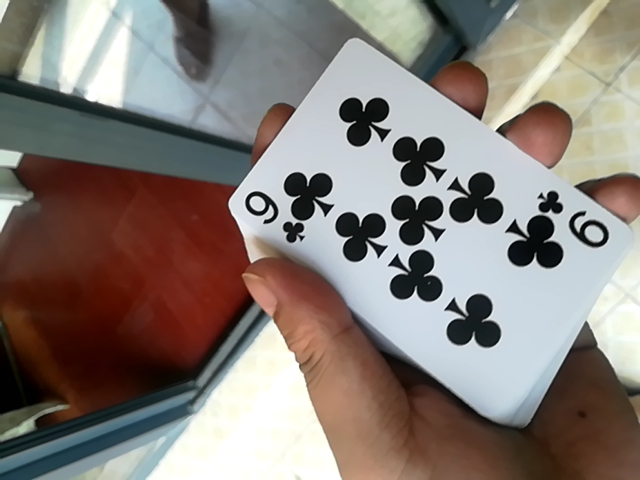mh 9: (198, 7, 639, 426)
